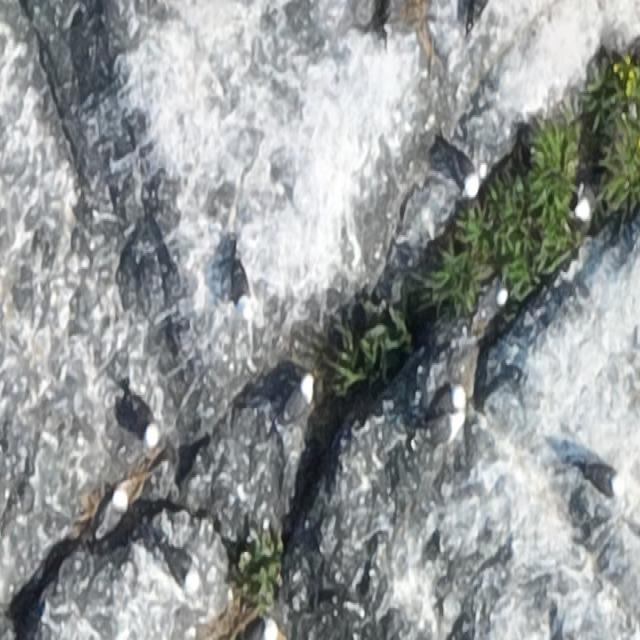umineko: (278, 377, 314, 431), (96, 488, 128, 546), (165, 547, 201, 596), (131, 396, 163, 447), (425, 414, 465, 452), (431, 380, 469, 417), (232, 256, 251, 325), (576, 181, 603, 224), (245, 609, 278, 640), (584, 464, 620, 490), (456, 160, 480, 196)
